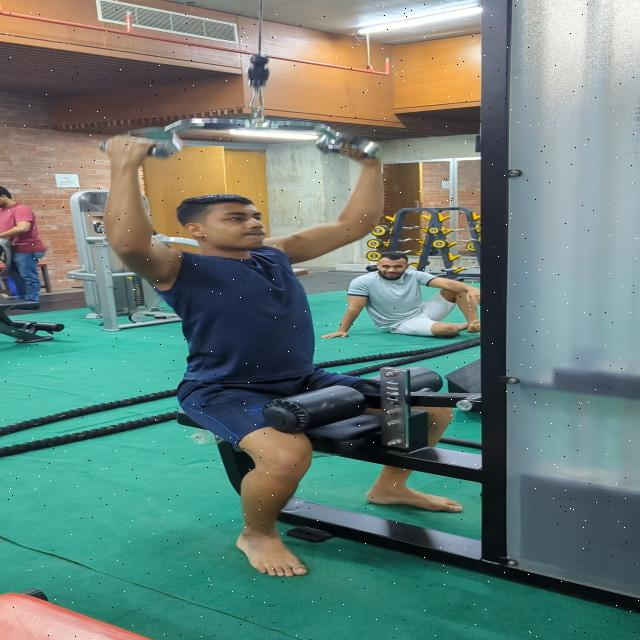Normal_LatPulldown: (92, 128, 468, 582)
